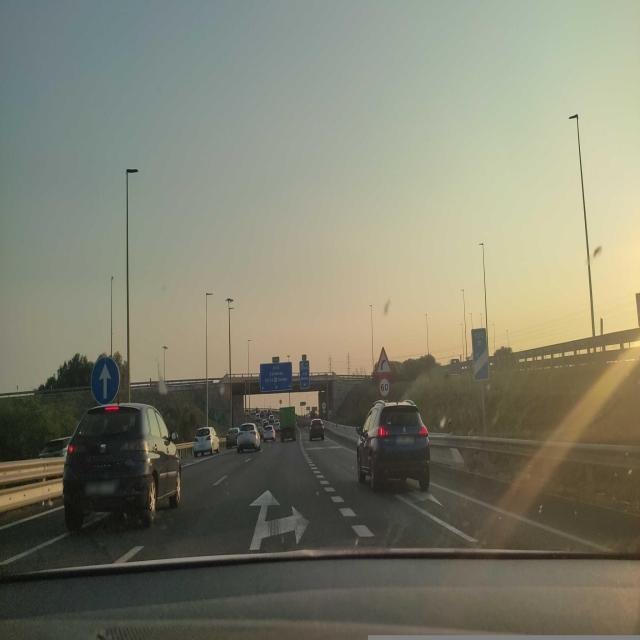car: (62, 402, 183, 530), (356, 397, 431, 492), (193, 426, 220, 456), (237, 422, 261, 452), (39, 438, 70, 458), (308, 417, 324, 441), (225, 427, 240, 448), (261, 422, 275, 442)
